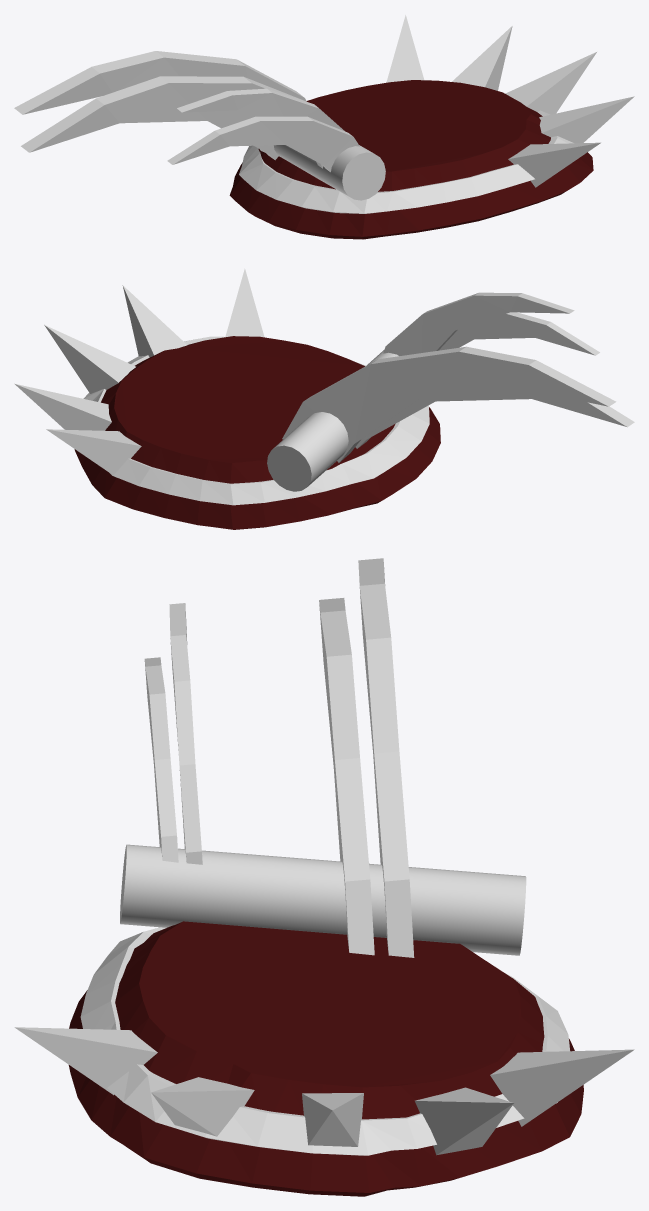
File: axe_warrior_hat.fbx
The picture shows the model from 3 angles, top to bottom: view 1: azimuth 30°, elevation 25°; view 2: azimuth 150°, elevation 25°; view 3: azimuth 270°, elevation 25°; orthographic projection. The views are drawn at different scales.
Parts seen in each view (by area): view 1: hat, h8, h011, h7, h5, h3, h6, Pyramid001, Pyramid004, Pyramid005, Pyramid002, Pyramid003; view 2: hat, h7, h011, h6, h3, h8, h5, Pyramid001, Pyramid002, Pyramid003, Pyramid004, Pyramid005; view 3: hat, h3, h011, h7, h8, Pyramid003, Pyramid005, h6, Pyramid002, Pyramid004, h5, Pyramid001.
Part boxes in pixels (<box>): hat: <box>229,80,593,239</box>; h8: <box>21,76,306,160</box>; h011: <box>239,110,573,213</box>; h7: <box>14,51,306,152</box>; h5: <box>167,116,359,172</box>; h3: <box>274,145,385,200</box>; h6: <box>177,88,344,168</box>; Pyramid001: <box>505,52,596,114</box>; Pyramid004: <box>539,96,634,143</box>; Pyramid005: <box>508,142,600,187</box>; Pyramid002: <box>452,26,512,90</box>; Pyramid003: <box>386,15,424,82</box>; hat: <box>74,336,440,529</box>; h7: <box>282,346,616,462</box>; h011: <box>83,336,429,505</box>; h6: <box>383,292,574,356</box>; h3: <box>267,350,398,491</box>; h8: <box>355,387,634,448</box>; h5: <box>439,312,599,355</box>; Pyramid001: <box>44,325,135,393</box>; Pyramid002: <box>14,383,111,430</box>; Pyramid003: <box>46,429,141,475</box>; Pyramid004: <box>122,285,187,357</box>; Pyramid005: <box>225,268,264,337</box>; hat: <box>68,921,583,1196</box>; h3: <box>120,844,526,955</box>; h011: <box>80,927,569,1155</box>; h7: <box>358,558,414,957</box>; h8: <box>319,598,374,955</box>; Pyramid003: <box>490,1049,634,1126</box>; Pyramid005: <box>14,1027,157,1095</box>; h6: <box>169,603,202,864</box>; Pyramid002: <box>415,1087,513,1155</box>; Pyramid004: <box>151,1077,254,1136</box>; h5: <box>144,657,178,862</box>; Pyramid001: <box>302,1093,363,1146</box>.
Bounding box in the file's own units: 65.67 × 19.98 × 38.72.
